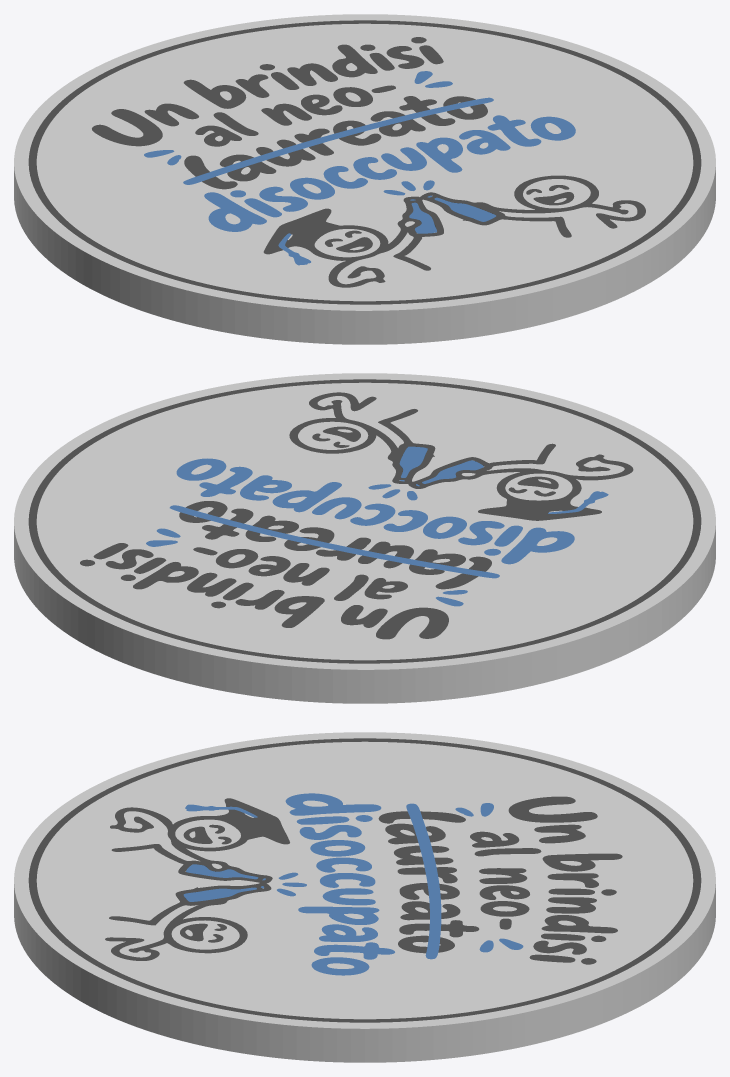
Rendered from sottobicchiere-brindisi-neo-disoccupato.glb.
The picture shows the model from 3 angles, top to bottom: view 1: azimuth 30°, elevation 25°; view 2: azimuth 150°, elevation 25°; view 3: azimuth 270°, elevation 25°; orthographic projection.
Parts seen in each view (by area): view 1: coaster_base, coaster_ink, coaster_accent; view 2: coaster_base, coaster_ink, coaster_accent; view 3: coaster_base, coaster_ink, coaster_accent.
Part boxes in pixels (<box>): coaster_base: <box>14,14,715,344</box>; coaster_ink: <box>28,20,701,304</box>; coaster_accent: <box>144,71,575,265</box>; coaster_base: <box>14,373,715,703</box>; coaster_ink: <box>28,379,701,663</box>; coaster_accent: <box>146,446,608,606</box>; coaster_base: <box>14,732,715,1062</box>; coaster_ink: <box>28,738,701,1022</box>; coaster_accent: <box>183,793,523,975</box>.
Size of the model in its own units: 0.075 by 0.004 by 0.075.
